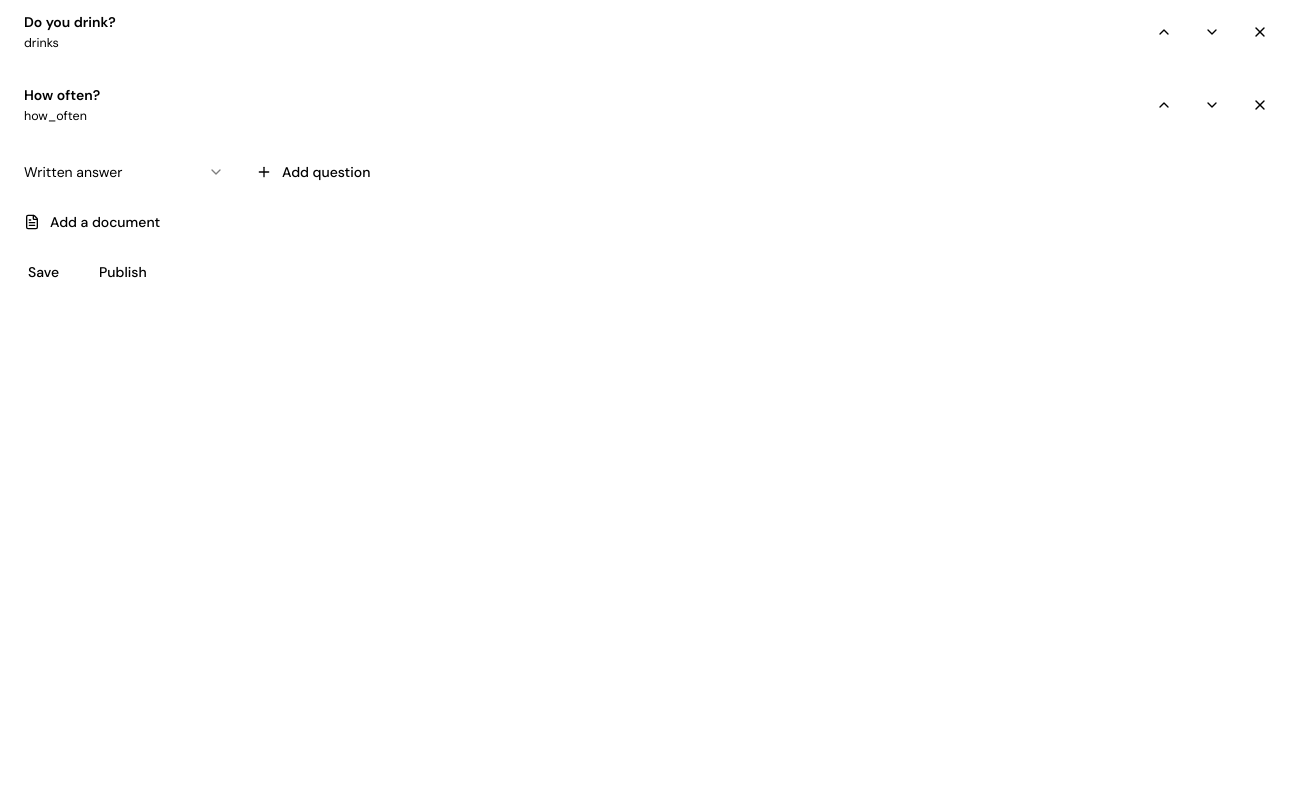
Test: IntakeItemEditor › offers a question the ones above it to be shown because of
The image size is (1292, 800).
Click the button "How often? how_often" at (62, 95), box [24, 85, 1136, 126]
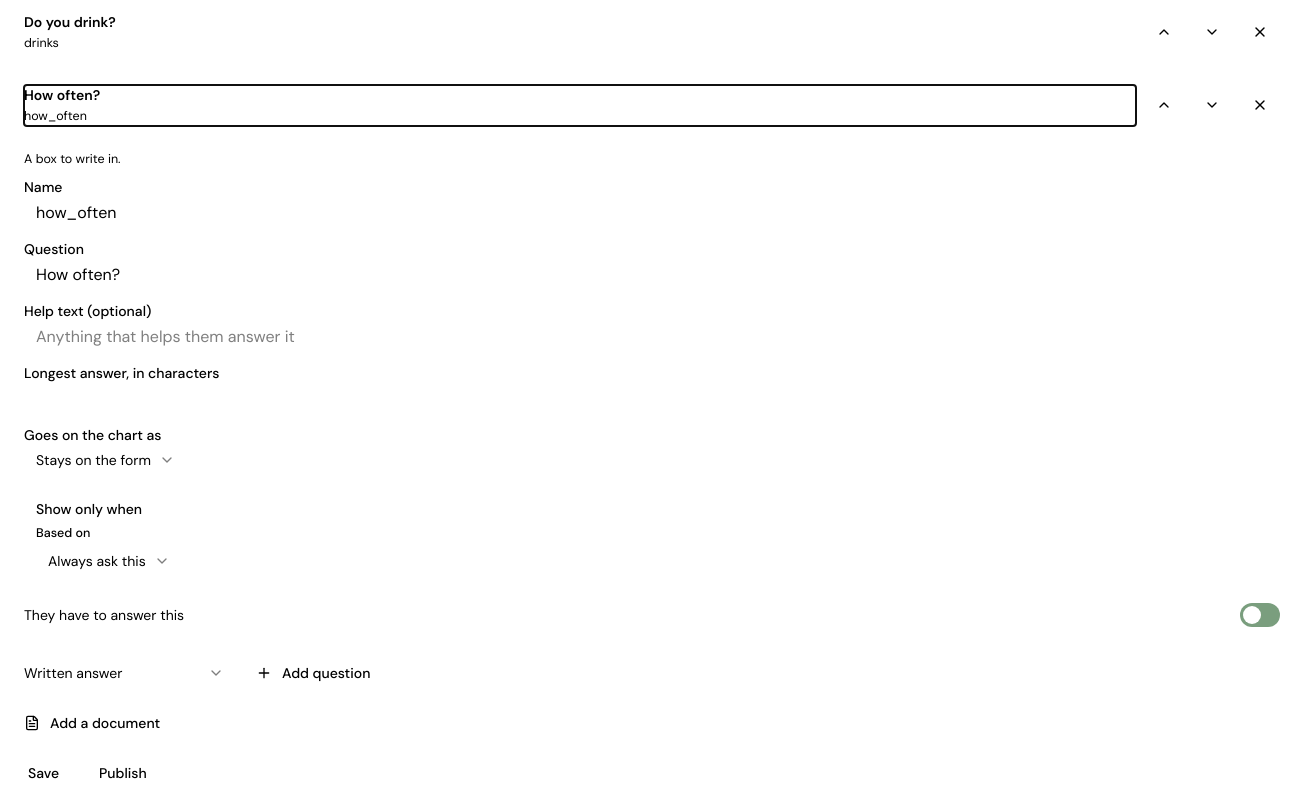
Click the dropdown named "Based on" at (109, 561), box [36, 543, 182, 579]
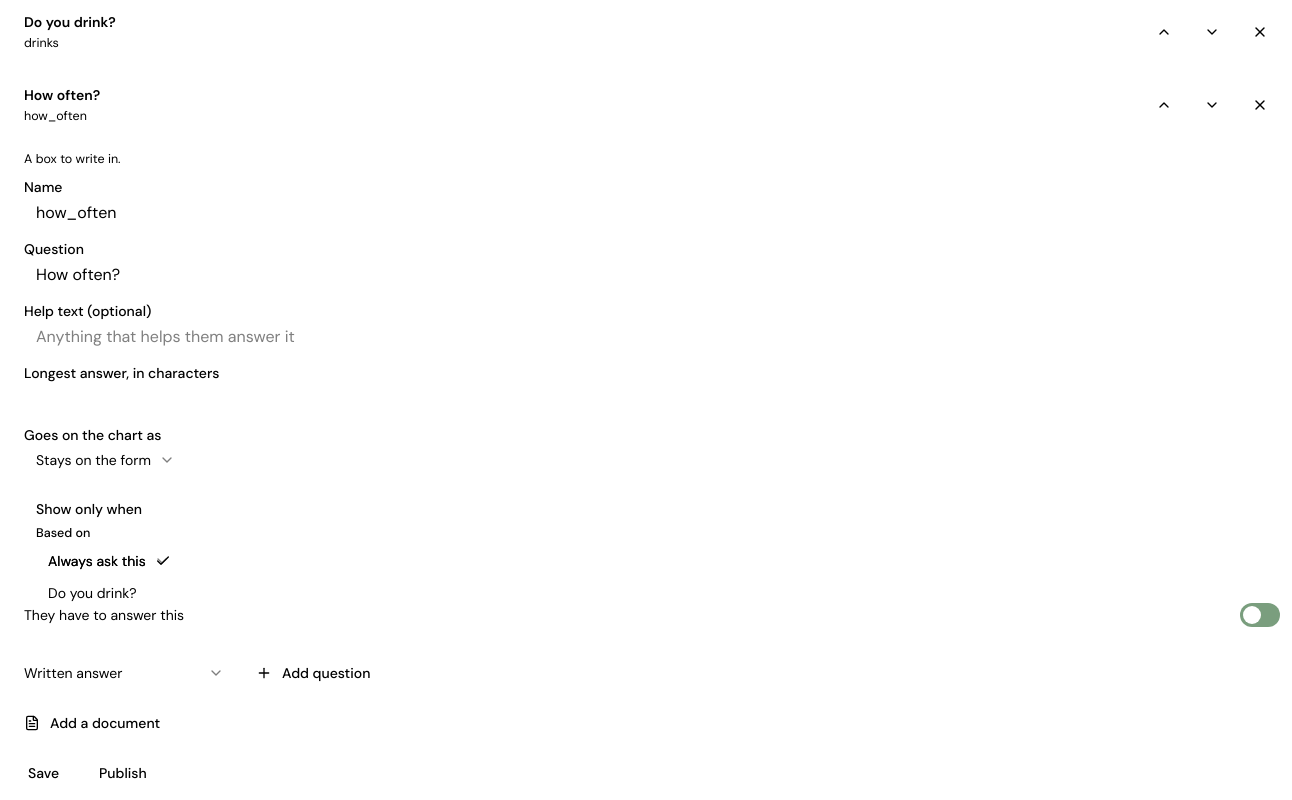
Now the option "Do you drink?" is shown, box [48, 584, 137, 602]
